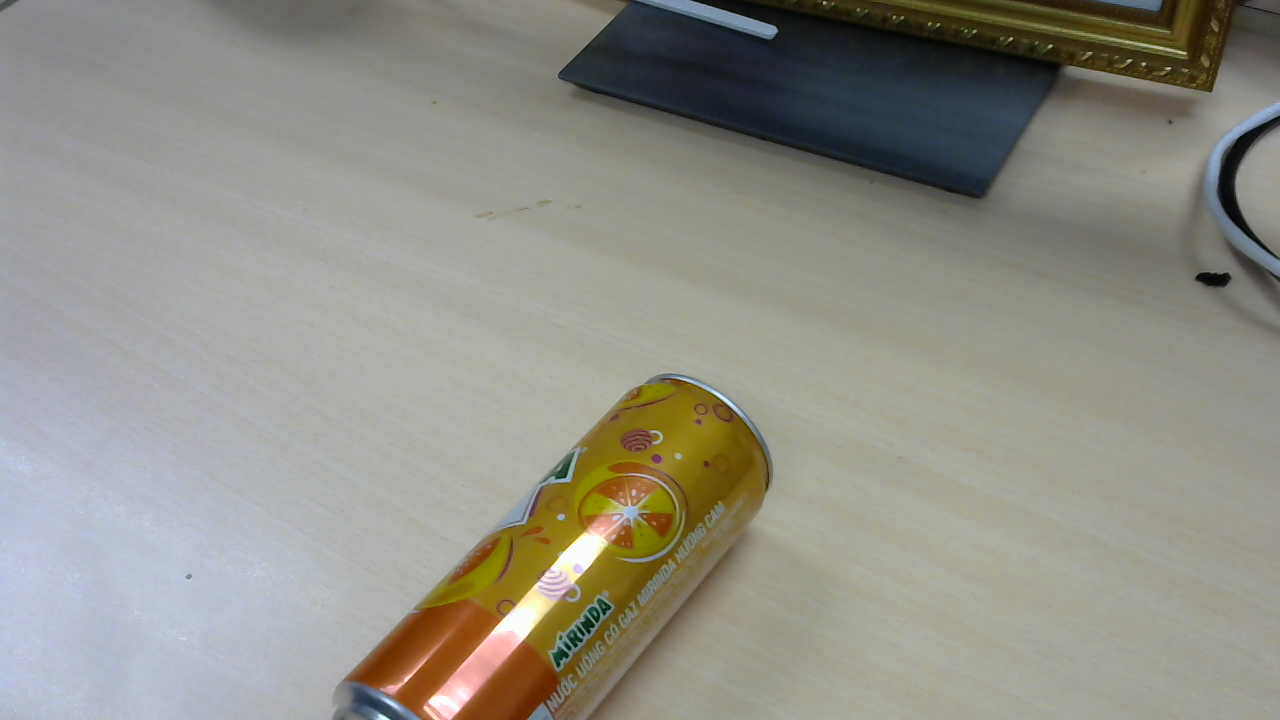Mirinda: (334, 368, 785, 704)
